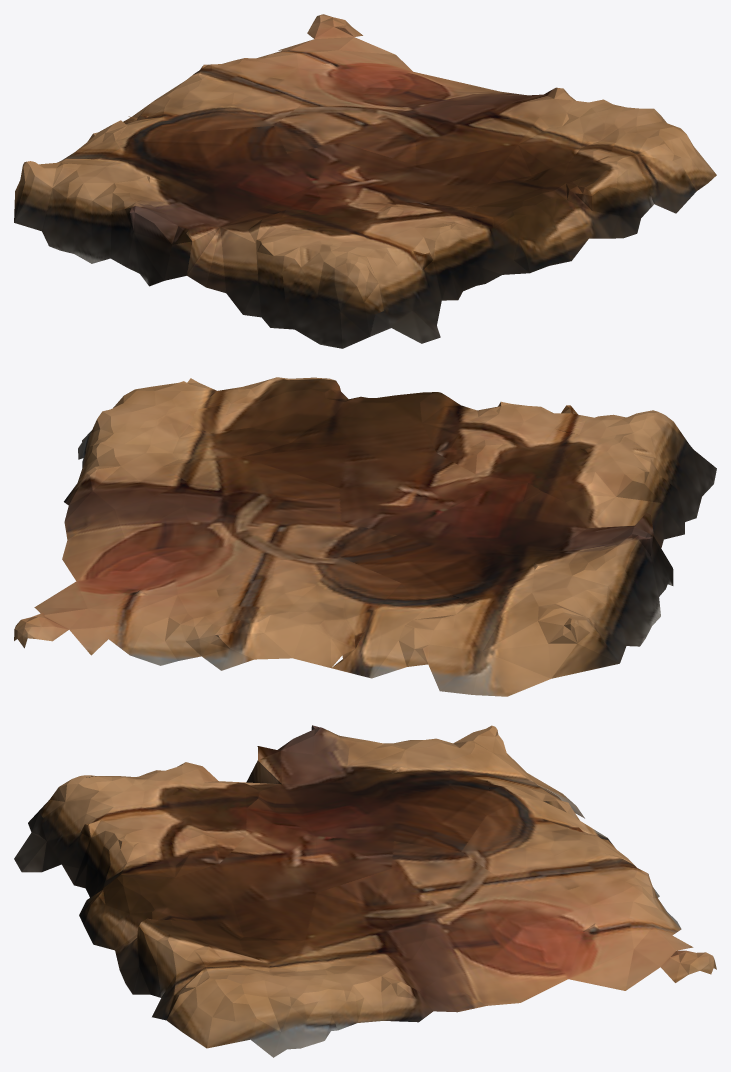
The model's file is salvage_raft_photogrammetry_scan.glb.
3 renders of one model, top to bottom at view 1: azimuth 30°, elevation 25°; view 2: azimuth 150°, elevation 25°; view 3: azimuth 270°, elevation 25°, orthographic. The views are drawn at different scales.
Parts seen in each view (by area): view 1: texturedMesh; view 2: texturedMesh; view 3: texturedMesh.
Boxes of the visible parts, x1,y1,x2,y2 form: texturedMesh: (14,14,716,348); texturedMesh: (14,377,716,696); texturedMesh: (14,725,716,1057).
Bounding box in the file's own units: 2.38 × 0.2557 × 2.4.
Materials: 1 (1 with a texture image).
